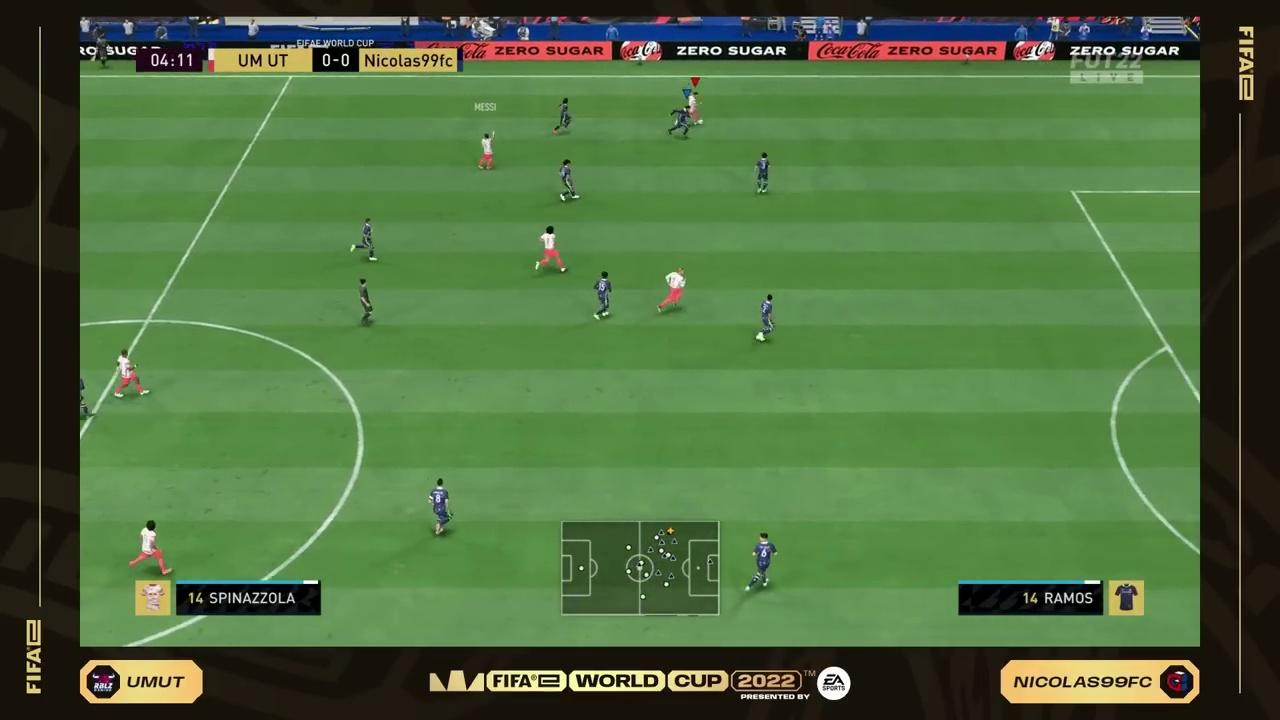scoreboard: (209, 48, 461, 74)
timestamp: (133, 47, 204, 74)
